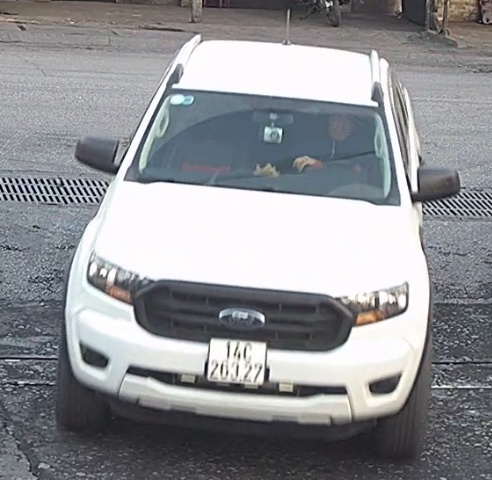vehicle plate: (204, 333, 275, 391)
